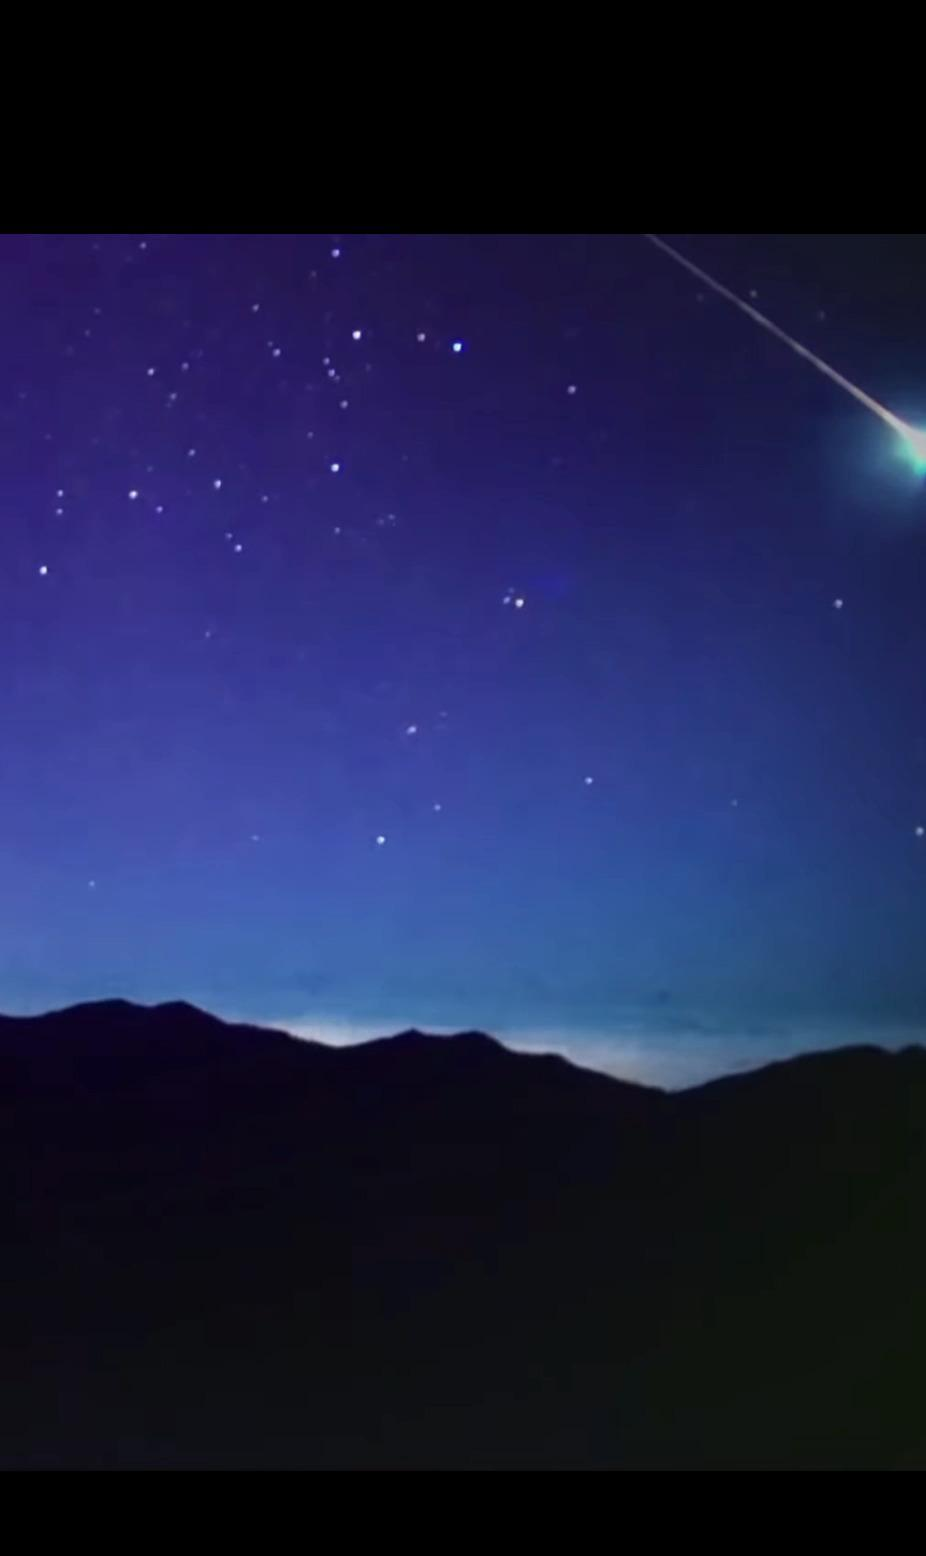meteorite: (763, 315, 926, 533)
